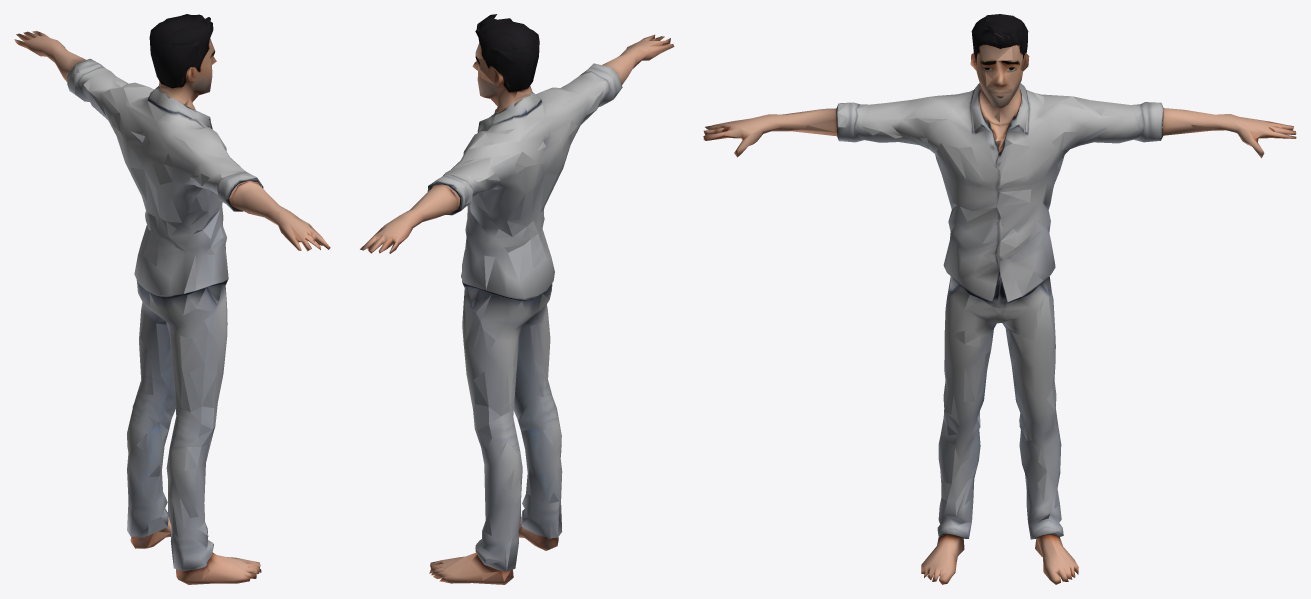
Rendered from prota 1.fbx.
3 views of the same model, side by side, from view 1: azimuth 30°, elevation 25°; view 2: azimuth 150°, elevation 25°; view 3: azimuth 270°, elevation 25° (orthographic).
Parts seen in each view (by area): view 1: tripo_node_c7e8e9f7; view 2: tripo_node_c7e8e9f7; view 3: tripo_node_c7e8e9f7.
Boxes of the visible parts, box(x1,y1,x2,y2) form: tripo_node_c7e8e9f7: box(14, 14, 330, 584); tripo_node_c7e8e9f7: box(360, 14, 674, 584); tripo_node_c7e8e9f7: box(703, 14, 1296, 584).
Bounding box in the file's own units: 17.94 × 100 × 98.55.
Materials: 1 (1 with a texture image).
